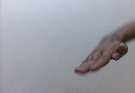hand: (74, 31, 129, 75)
